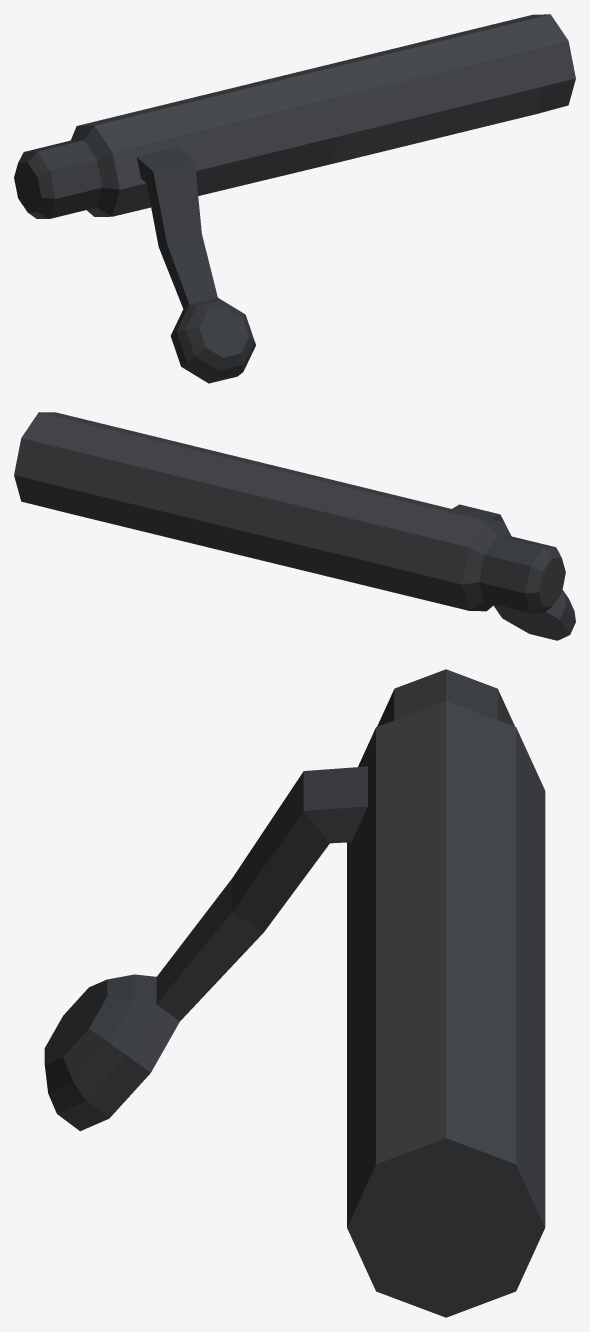
The model's file is SniperRifle3_04_2.fbx.
3 renders of one model, top to bottom at view 1: azimuth 30°, elevation 25°; view 2: azimuth 150°, elevation 25°; view 3: azimuth 270°, elevation 25°, orthographic. The views are drawn at different scales.
Visible parts, largest first — view 1: SniperRifle3_04_2; view 2: SniperRifle3_04_2; view 3: SniperRifle3_04_2.
Part boxes in pixels (<box>): SniperRifle3_04_2: <box>14,14,575,383</box>; SniperRifle3_04_2: <box>14,412,575,640</box>; SniperRifle3_04_2: <box>44,669,545,1317</box>.
Size of the model in its own units: 0.1559 by 0.0555 by 0.0658.
